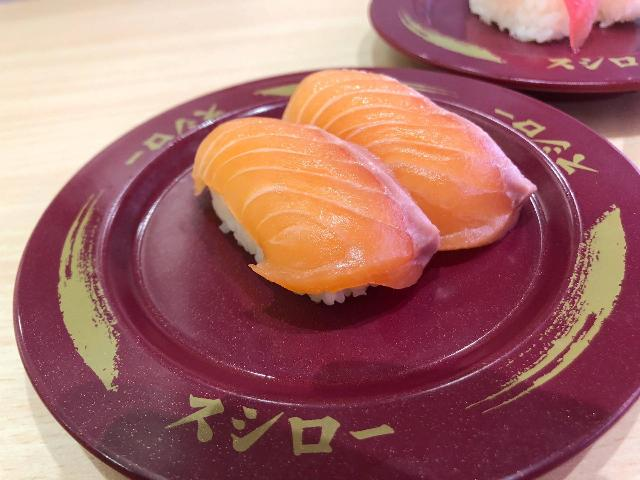janred: (33, 94, 615, 418), (333, 0, 640, 125)
